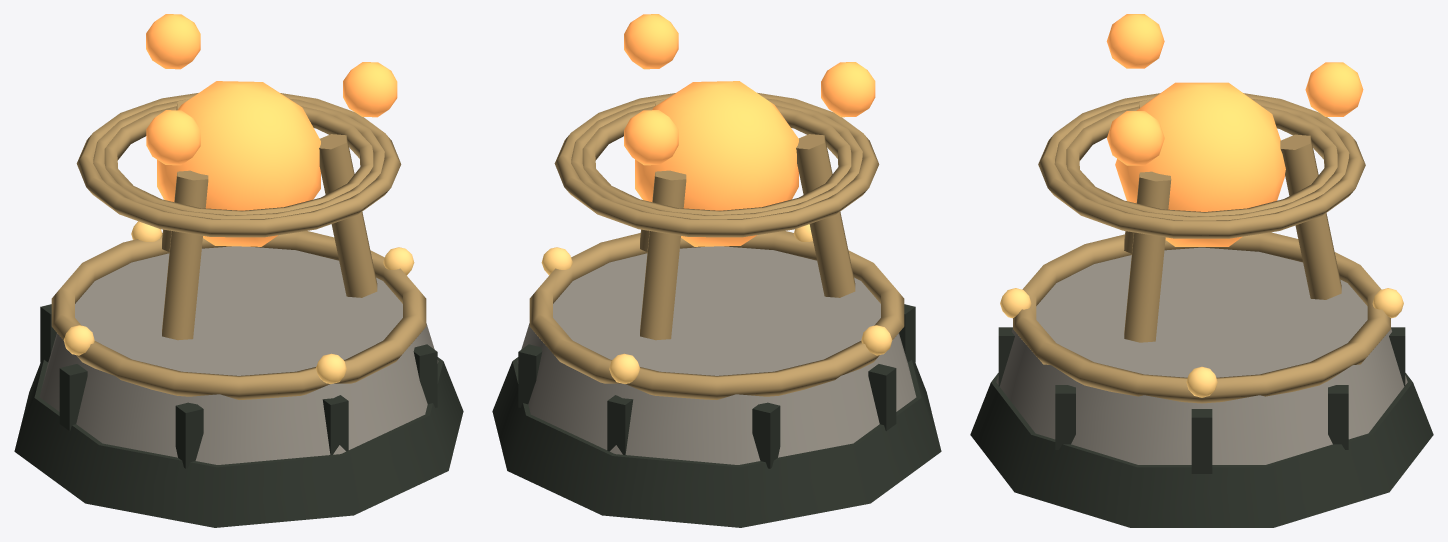
File: tower_meteor_meteorForge_ultimate.glb
The picture shows the model from 3 angles, left to right: view 1: azimuth 30°, elevation 25°; view 2: azimuth 150°, elevation 25°; view 3: azimuth 270°, elevation 25°; orthographic projection.
Parts seen in each view (by area): view 1: stone_1, foot_0, meteor_18, rim_2, armillary_21, armillary_19, claw_17, claw_16, armillary_20, falling_star_24, falling_star_22, falling_star_23 (+8 smaller); view 2: stone_1, foot_0, meteor_18, rim_2, armillary_21, armillary_19, claw_15, claw_17, armillary_20, falling_star_22, falling_star_23, falling_star_24 (+8 smaller); view 3: stone_1, foot_0, meteor_18, rim_2, armillary_21, armillary_19, claw_16, claw_15, armillary_20, falling_star_22, falling_star_23, falling_star_24 (+8 smaller).
Boxes of the visible parts, box(x1,y1,x2,y2) form: stone_1: box(39, 246, 438, 464); foot_0: box(14, 357, 463, 527); meteor_18: box(157, 81, 320, 246); rim_2: box(51, 231, 426, 399); armillary_21: box(76, 93, 401, 237); armillary_19: box(104, 106, 373, 215); claw_17: box(162, 170, 208, 340); claw_16: box(319, 134, 377, 297); armillary_20: box(93, 98, 384, 219); falling_star_24: box(146, 110, 200, 165); falling_star_22: box(146, 14, 200, 69); falling_star_23: box(343, 62, 397, 117); stone_1: box(517, 246, 916, 464); foot_0: box(492, 357, 941, 527); meteor_18: box(635, 81, 798, 246); rim_2: box(529, 231, 904, 399); armillary_21: box(554, 92, 879, 237); armillary_19: box(582, 105, 851, 215); claw_15: box(640, 170, 686, 340); claw_17: box(796, 134, 855, 297); armillary_20: box(571, 98, 862, 219); falling_star_22: box(624, 110, 678, 165); falling_star_23: box(624, 14, 678, 69); falling_star_24: box(821, 62, 875, 117); stone_1: box(996, 247, 1407, 464); foot_0: box(970, 373, 1433, 527); meteor_18: box(1115, 82, 1285, 246); rim_2: box(1013, 232, 1390, 403); armillary_21: box(1038, 93, 1365, 238); armillary_19: box(1066, 105, 1337, 216); claw_16: box(1124, 171, 1171, 342); claw_15: box(1280, 134, 1341, 299); armillary_20: box(1054, 98, 1349, 220); falling_star_22: box(1305, 62, 1363, 116); falling_star_23: box(1107, 111, 1164, 165); falling_star_24: box(1106, 14, 1164, 68).
Size of the model in its own units: 0.5326 by 0.495 by 0.56.
